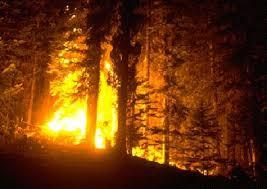fire: (37, 29, 119, 147)
